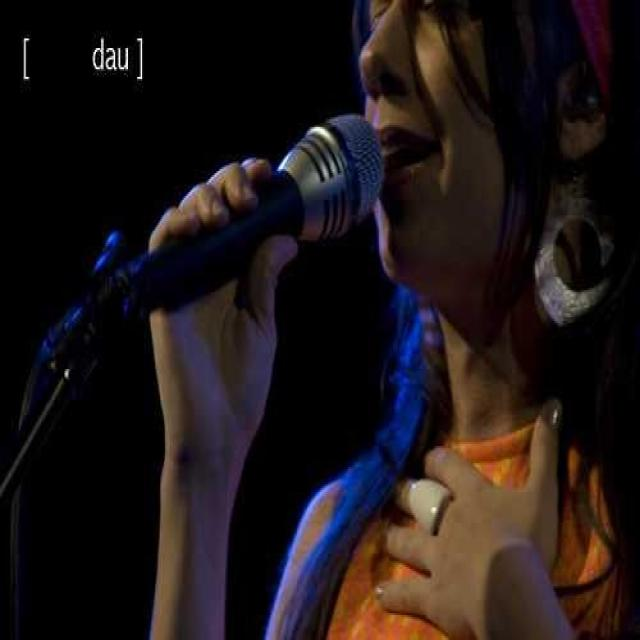microphone: (122, 115, 385, 307)
